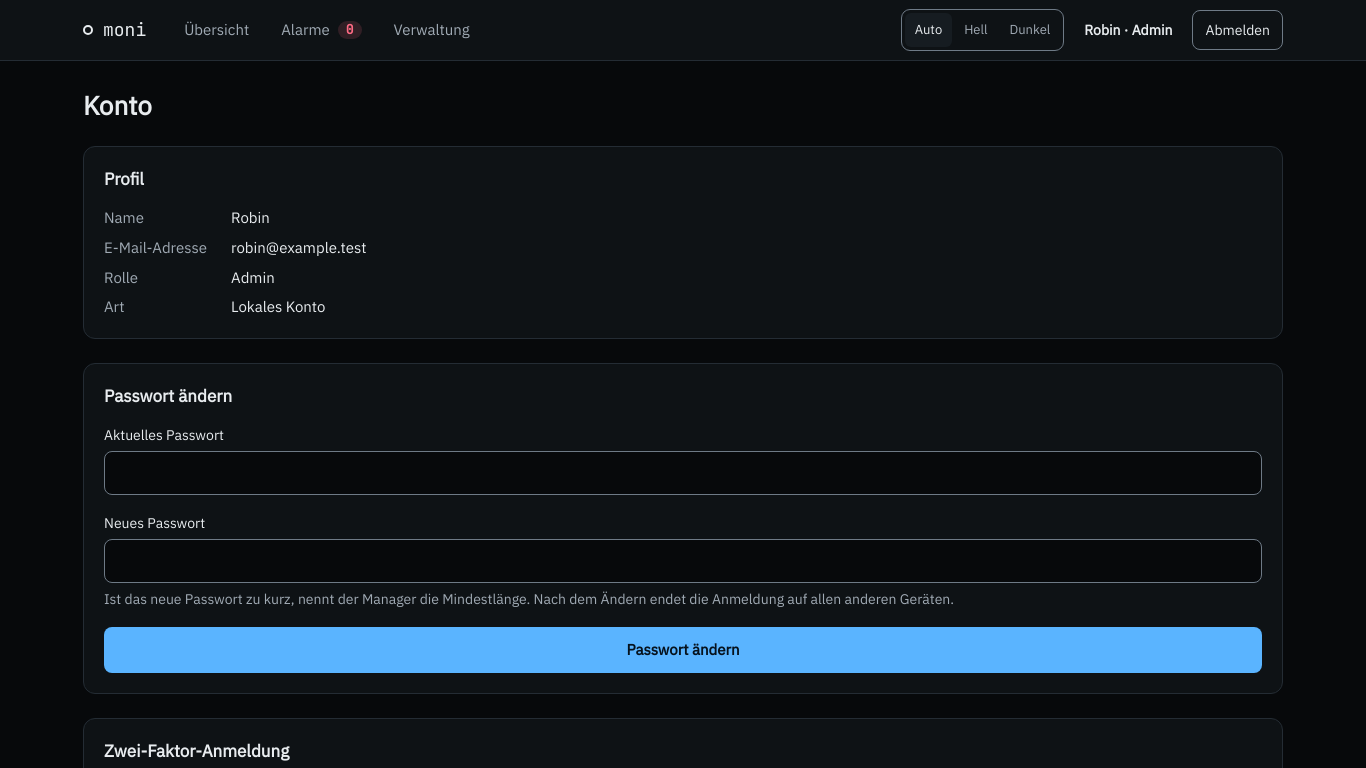
Test case: Konto › Passwort ändern: Erfolg leert die Felder und nennt die beendeten Sitzungen
Expected: the heading "Konto" is shown, top-left (83, 88), bottom-right (152, 122)
In the password field labelled "Aktuelles Passwort": (683, 473) top-left (104, 451), bottom-right (1262, 495), type "alt-passwort"
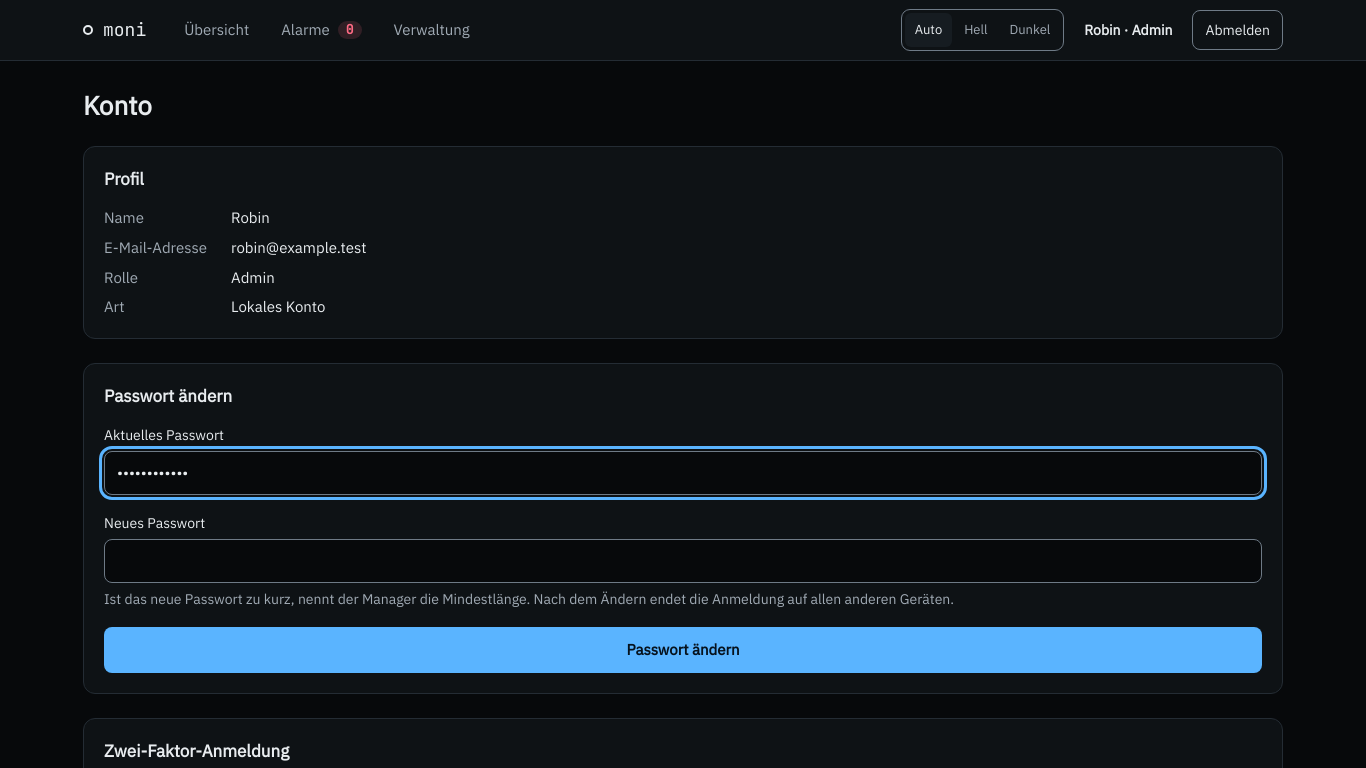
In the password field labelled "Neues Passwort": (683, 561) top-left (104, 539), bottom-right (1262, 583), type "neues-passwort-123"
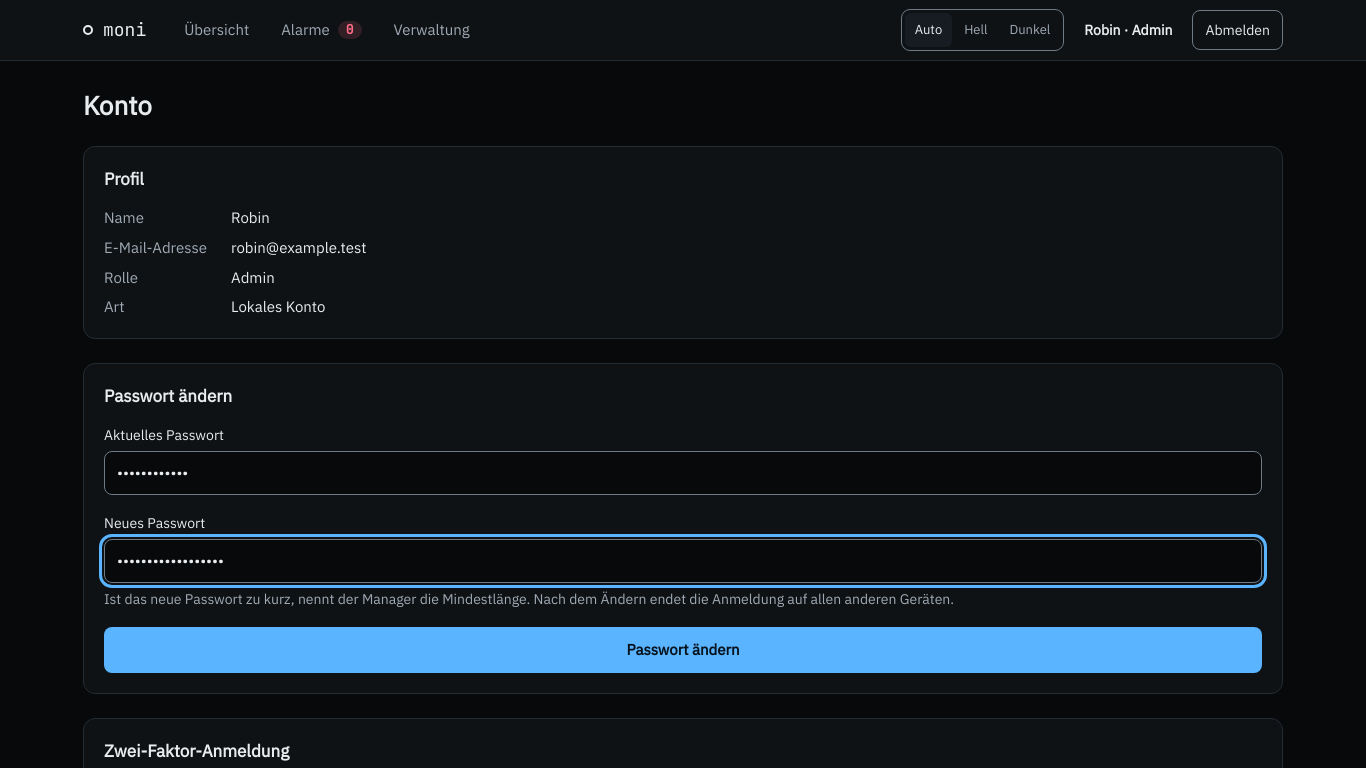
Click the button "Passwort ändern": (683, 650) top-left (104, 627), bottom-right (1262, 673)
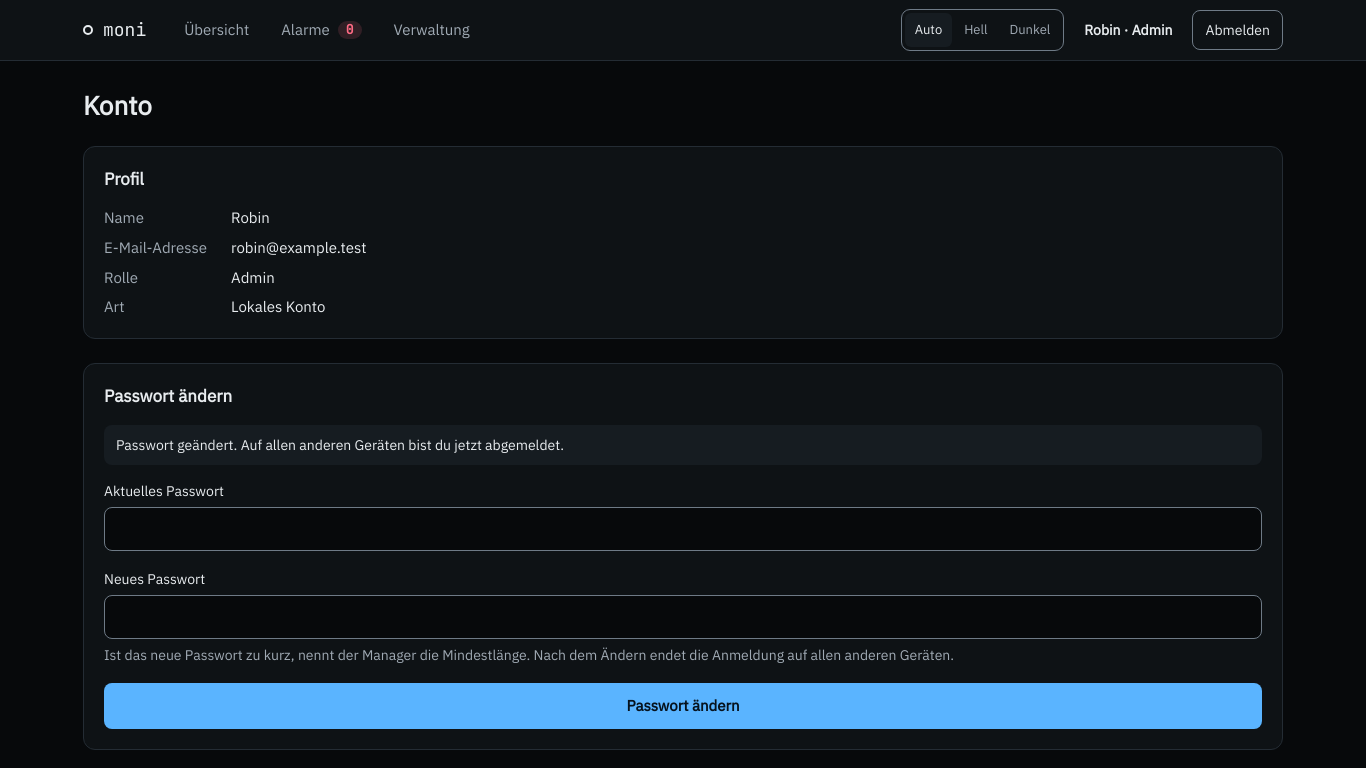
Expected: the text "Passwort geändert. Auf allen anderen Geräten bist du jetzt abgemeldet." is shown, top-left (104, 425), bottom-right (1262, 465)
Expected: the password field labelled "Aktuelles Passwort" is empty, top-left (104, 507), bottom-right (1262, 551)
Expected: the password field labelled "Neues Passwort" is empty, top-left (104, 595), bottom-right (1262, 639)
